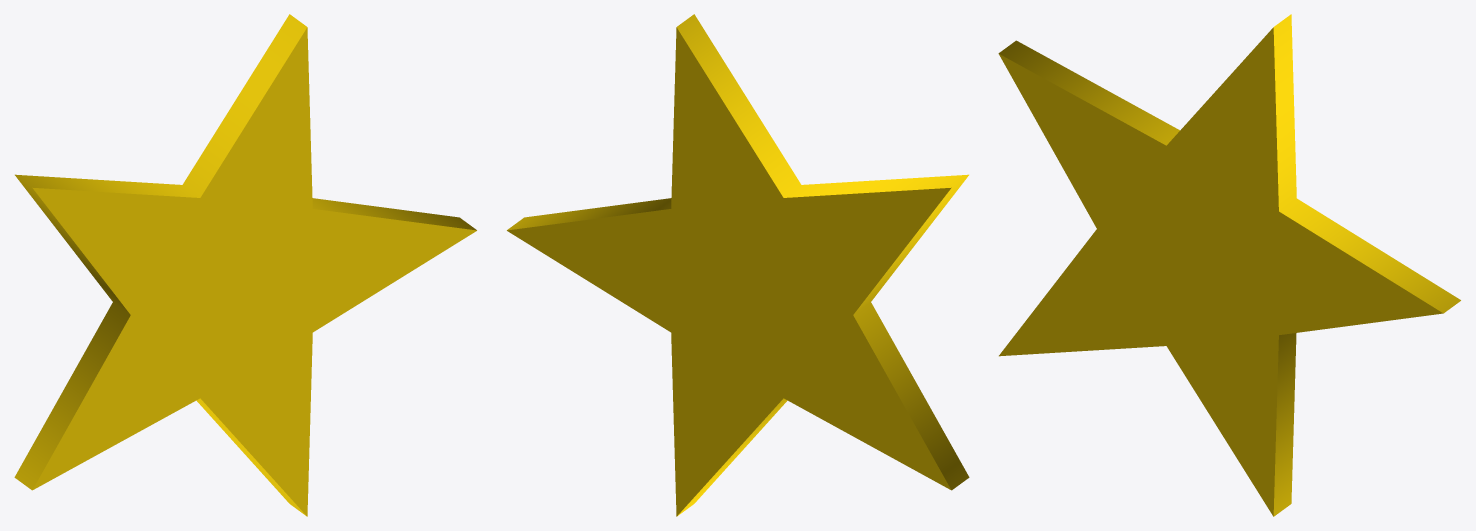
File: Star.fbx
The picture shows the model from 3 angles, left to right: view 1: azimuth 30°, elevation 25°; view 2: azimuth 150°, elevation 25°; view 3: azimuth 330°, elevation 25°; orthographic projection.
Parts seen in each view (by area): view 1: Cap 1, Extrude NURBS; view 2: Cap 2, Extrude NURBS; view 3: Cap 1, Extrude NURBS.
Boxes of the visible parts, box(x1,y1,x2,y2) form: Cap 1: box(32, 27, 476, 516); Extrude NURBS: box(14, 14, 476, 516); Cap 2: box(507, 27, 951, 516); Extrude NURBS: box(507, 14, 969, 516); Cap 1: box(999, 27, 1443, 516); Extrude NURBS: box(998, 14, 1460, 516).
Bounding box in the file's own units: 2.88 × 3.02 × 0.2.
